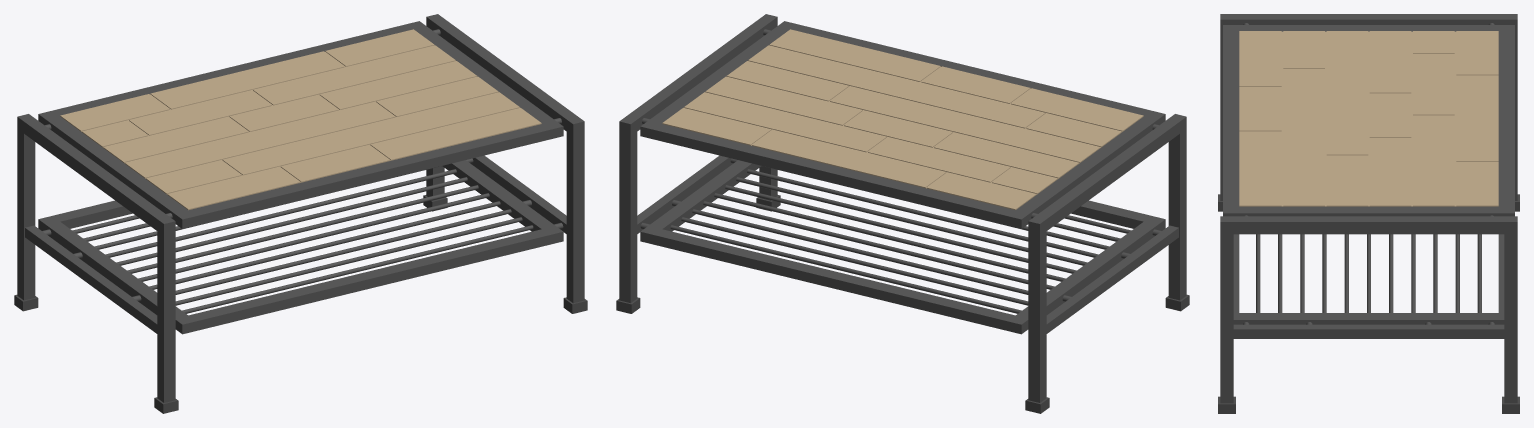
The model's file is 410_センターテーブル.glb.
3 views of the same model, side by side, from view 1: azimuth 30°, elevation 25°; view 2: azimuth 150°, elevation 25°; view 3: azimuth 270°, elevation 25° (orthographic).
Visible parts, largest first — view 1: 410_センターテーブル; view 2: 410_センターテーブル; view 3: 410_センターテーブル.
Part boxes in pixels (x1,y1,x2,y2): 410_センターテーブル: [14, 14, 587, 413]; 410_センターテーブル: [616, 14, 1189, 413]; 410_センターテーブル: [1218, 14, 1519, 413].
Size of the model in its own units: 0.918 by 0.39 by 0.558.
